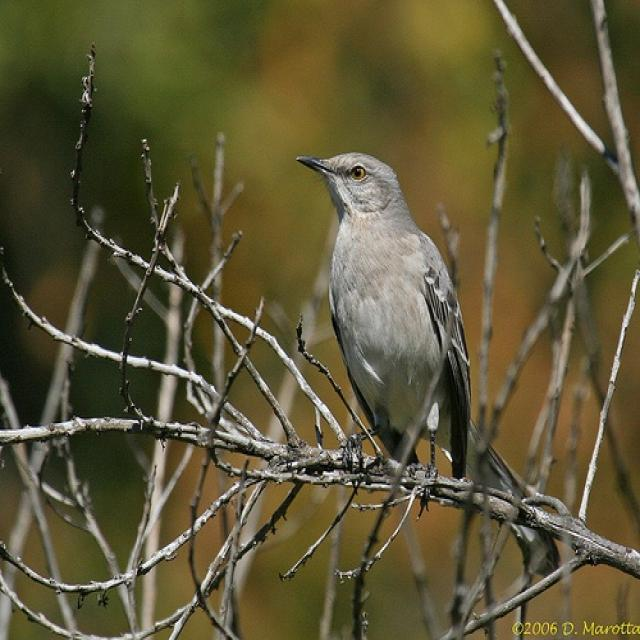bird: (294, 150, 472, 483)
